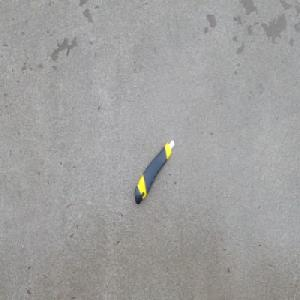Cutter: (134, 137, 175, 205)
